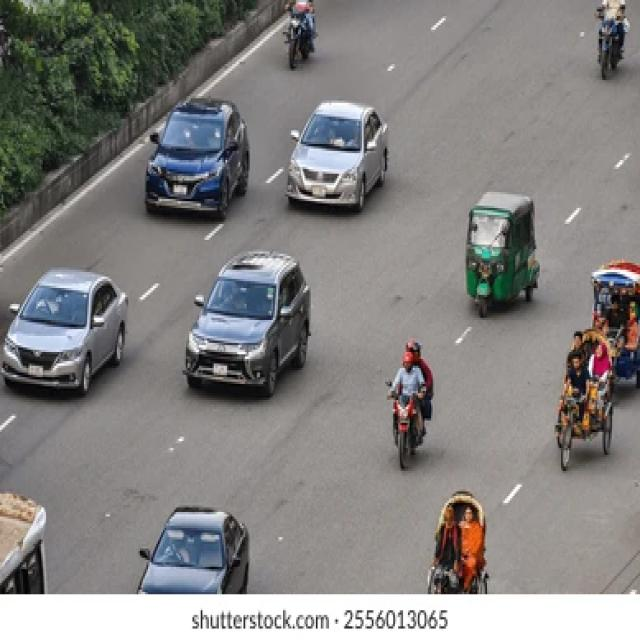bike: (372, 379, 439, 467), (592, 3, 637, 85)
car: (189, 252, 313, 404), (0, 279, 129, 396), (279, 101, 396, 212), (141, 98, 250, 217), (152, 500, 260, 607)
rickshaw: (545, 320, 616, 465), (416, 498, 494, 588)
